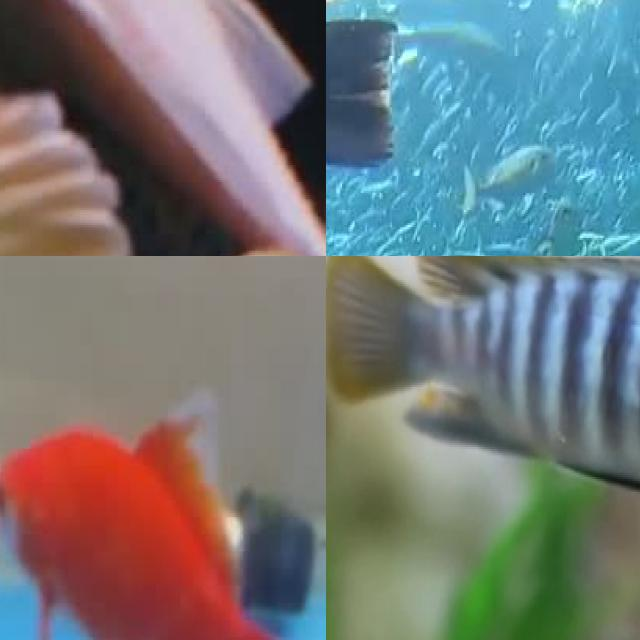fish: (0, 0, 326, 256), (326, 256, 640, 496)
